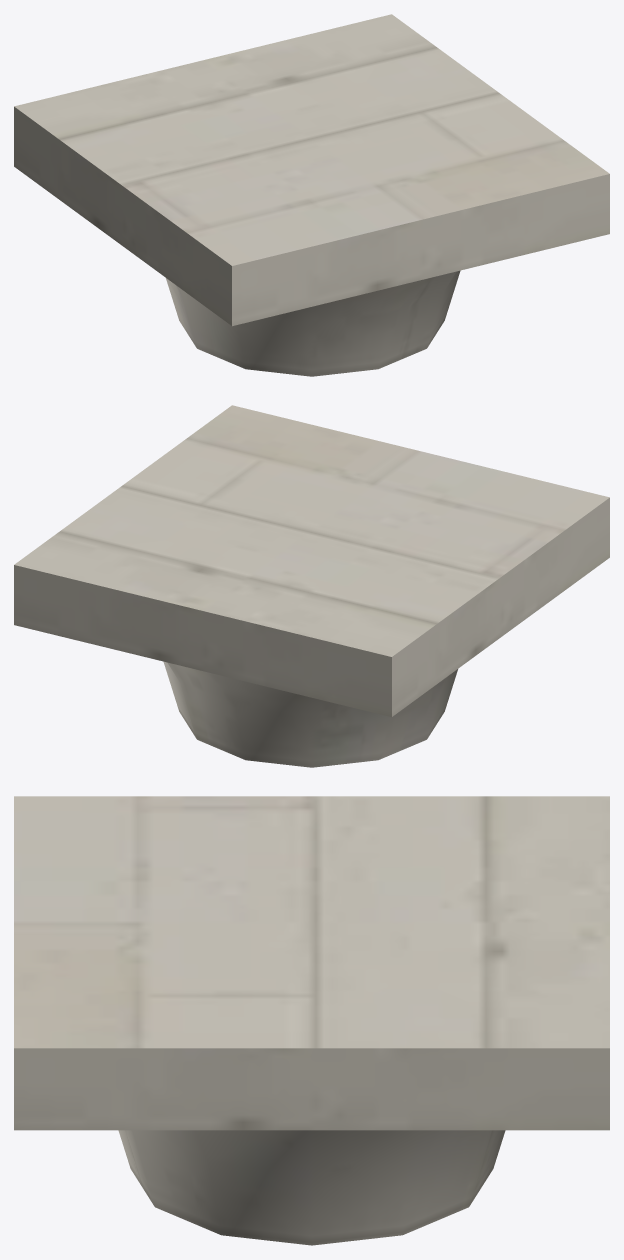
File: debris_dc_capital.glb
3 renders of one model, top to bottom at view 1: azimuth 30°, elevation 25°; view 2: azimuth 150°, elevation 25°; view 3: azimuth 270°, elevation 25°, orthographic. The views are drawn at different scales.
Visible parts, largest first — view 1: debris_dc_capital; view 2: debris_dc_capital; view 3: debris_dc_capital.
Boxes of the visible parts, box(x1,y1,x2,y2) form: debris_dc_capital: box(14, 14, 609, 376); debris_dc_capital: box(14, 405, 609, 767); debris_dc_capital: box(14, 796, 609, 1245).
Bounding box in the file's own units: 2.3 × 1.05 × 2.3.
1 material, 1 textured.
